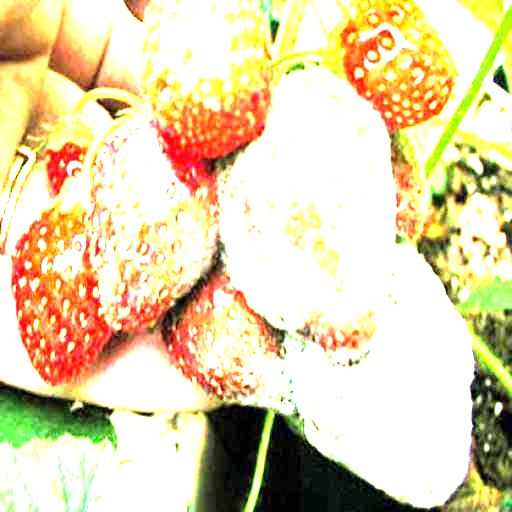Gray Mold: (215, 73, 396, 368), (286, 243, 474, 508), (159, 258, 296, 414), (95, 195, 221, 328)
